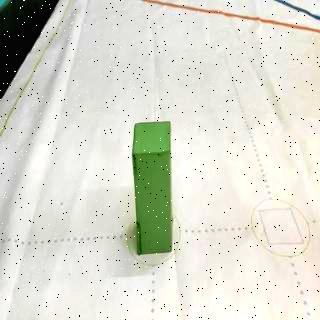greenbox: (134, 120, 174, 256)
